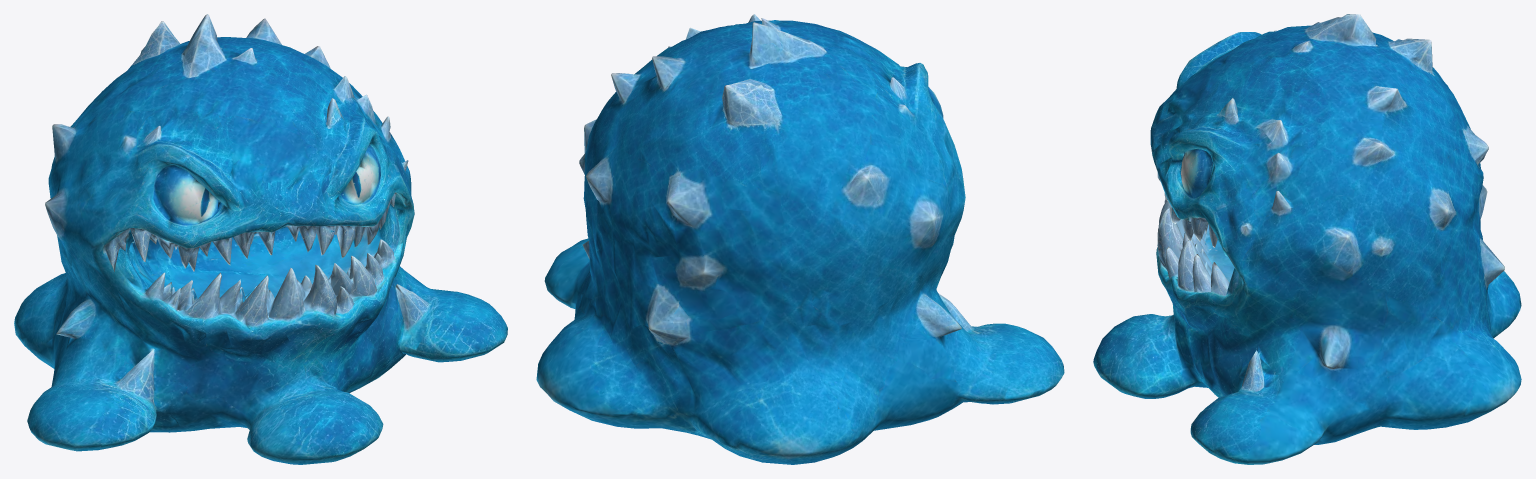
File: fgel.glb
The picture shows the model from 3 angles, left to right: view 1: azimuth 30°, elevation 25°; view 2: azimuth 150°, elevation 25°; view 3: azimuth 270°, elevation 25°; orthographic projection. The views are drawn at different scales.
Bounding box in the file's own units: 1.9 × 1.4 × 1.5.
Materials: 1 (1 with a texture image).
